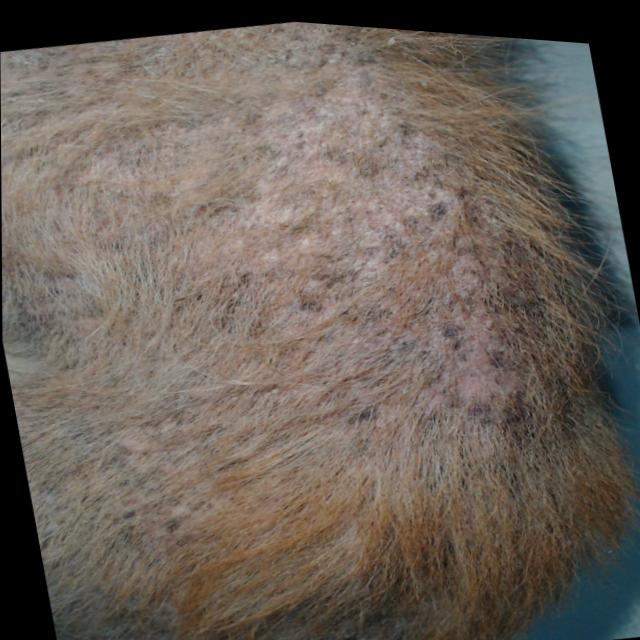demodicosis: (141, 67, 529, 449)
